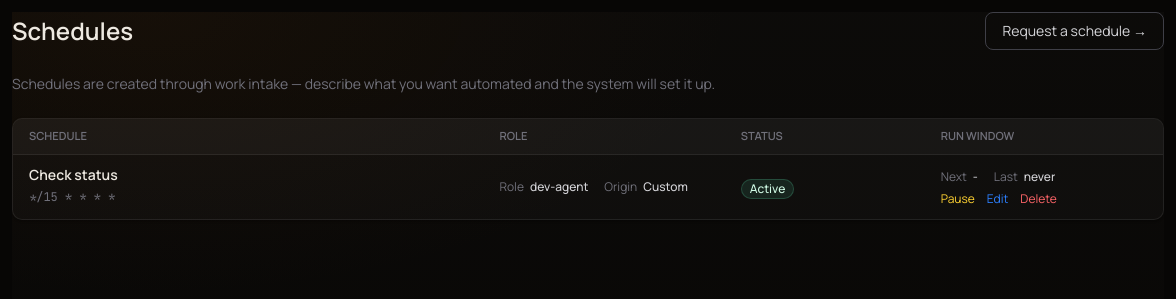
Test: SchedulesPage › keeps the original enabled state visible when pausing a schedule fails
expect the icon "Active" is shown: met, box left=741, top=179, right=794, bottom=199
Click the button "Pause" at (958, 199), box left=941, top=191, right=975, bottom=207
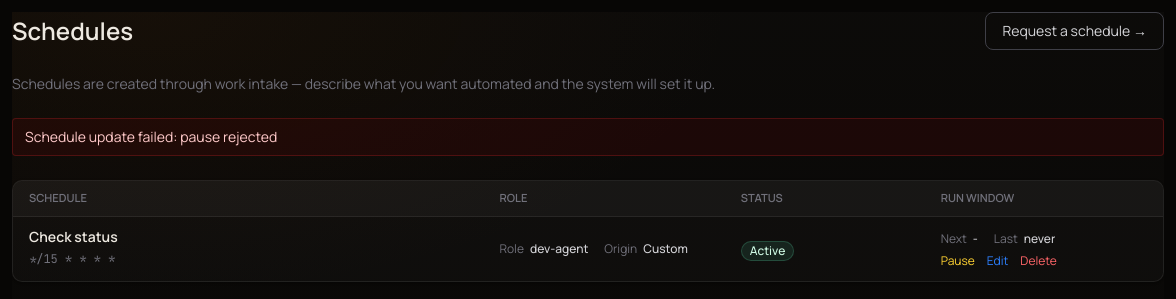
expect the icon "Active" is shown: met, box left=741, top=241, right=794, bottom=261
expect the text "Schedule update failed: pause rejected" is shown: met, box left=12, top=118, right=1164, bottom=156
